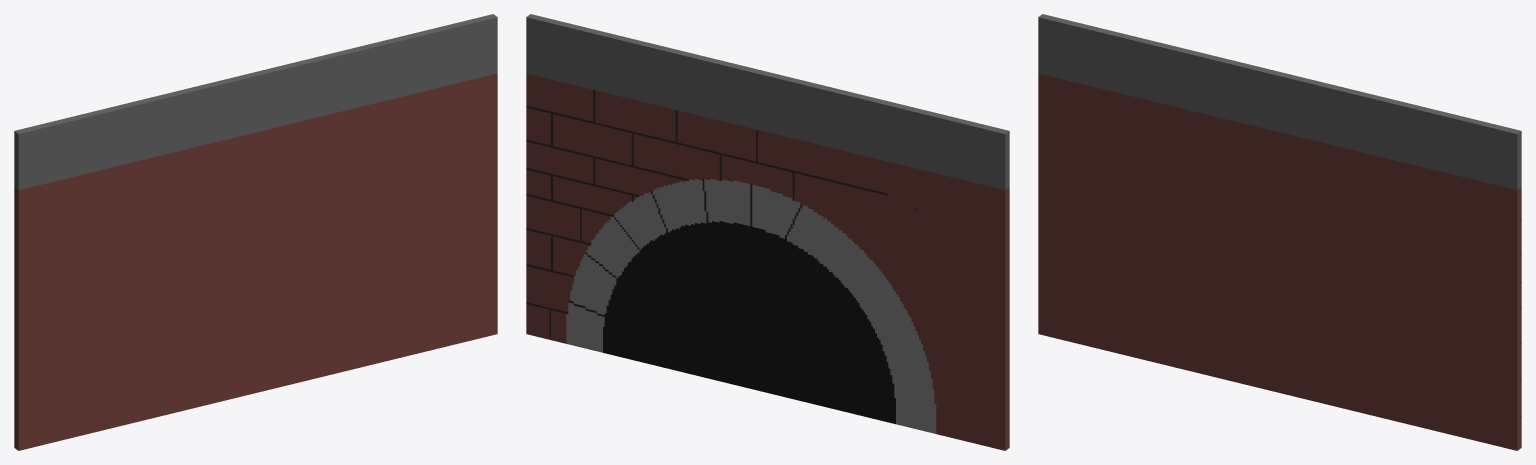
Rendered from Tunnel-0-Tunnel.obj.
3 views of the same model, side by side, from view 1: azimuth 30°, elevation 25°; view 2: azimuth 150°, elevation 25°; view 3: azimuth 330°, elevation 25° (orthographic).
Visible parts, largest first — view 1: Tunnel; view 2: Tunnel; view 3: Tunnel.
Part boxes in pixels (box(x1,y1,x2,y2)): Tunnel: box(14, 14, 497, 450); Tunnel: box(526, 14, 1009, 450); Tunnel: box(1038, 14, 1521, 450).
Size of the model in its own units: 25 by 15.8 by 0.4.
Materials: 1 (1 with a texture image).
